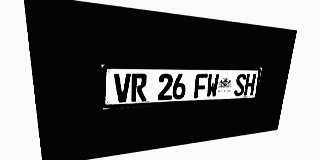2: (158, 74, 173, 100)
6: (172, 74, 187, 100)
F: (194, 74, 208, 98)
H: (244, 74, 256, 96)
R: (131, 74, 147, 102)
S: (234, 74, 246, 96)
V: (114, 73, 131, 103)
W: (206, 74, 219, 98)
